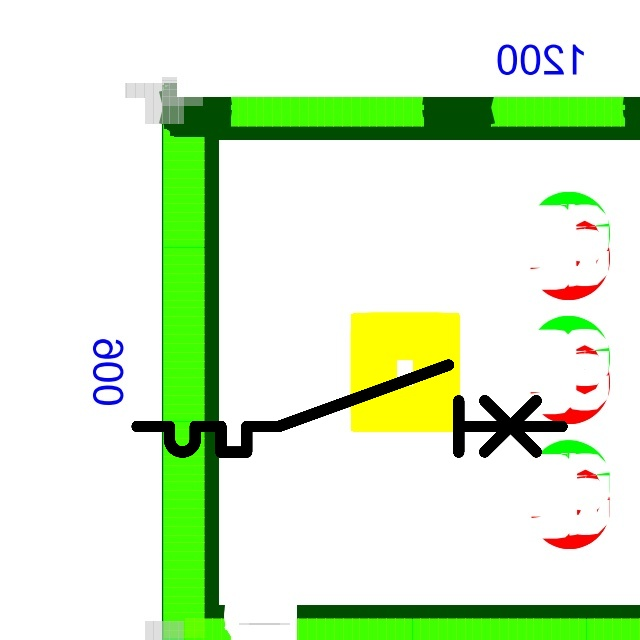interruptor_termomagnetico: (126, 354, 573, 463)
